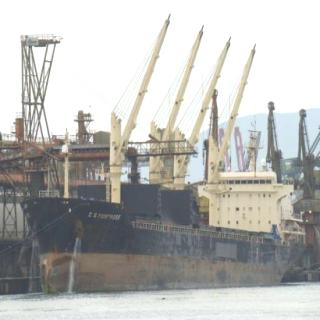Bulk Carrier: (3, 15, 310, 293)
